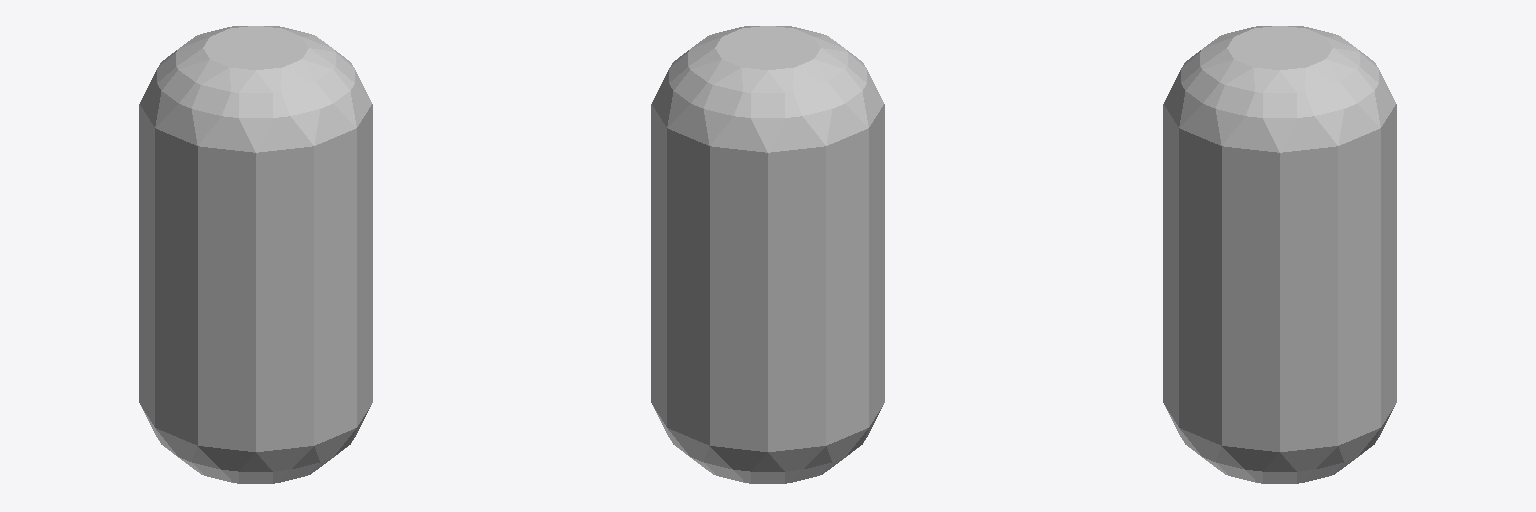
Rendered from placeholder.obj.
3 renders of one model, left to right at view 1: azimuth 30°, elevation 25°; view 2: azimuth 150°, elevation 25°; view 3: azimuth 270°, elevation 25°, orthographic.
Visible parts, largest first — view 1: Cylinder; view 2: Cylinder; view 3: Cylinder.
Part boxes in pixels (bbox=[...]): Cylinder: bbox=[139, 26, 372, 483]; Cylinder: bbox=[651, 26, 884, 483]; Cylinder: bbox=[1163, 26, 1396, 483].
Size of the model in its own units: 2 by 3.94 by 2.